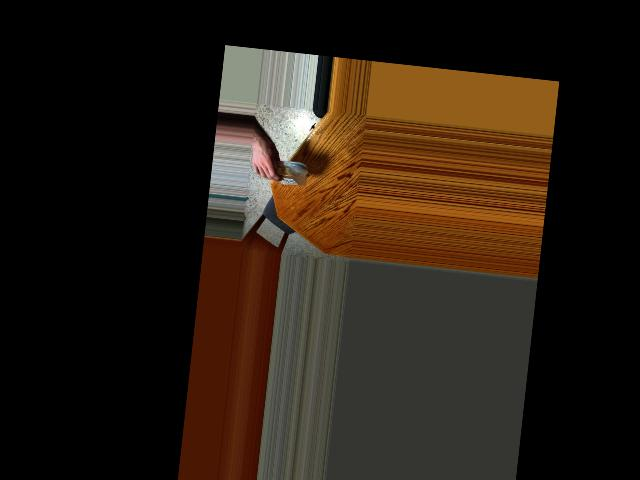cheese: (258, 150, 307, 193)
